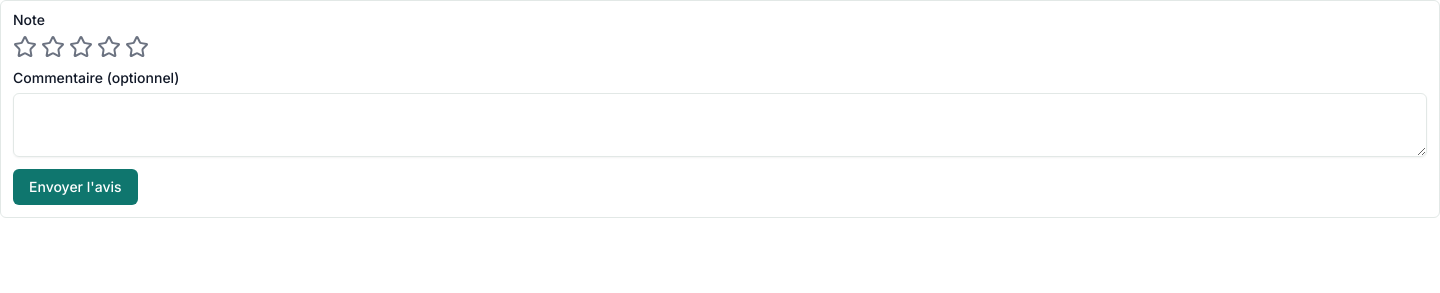
ReviewForm › shows a generic error when the request fails
The width and height of the screenshot is (1440, 293).
Click the radio button named "étoile" at [25, 47], box [13,35,37,59]
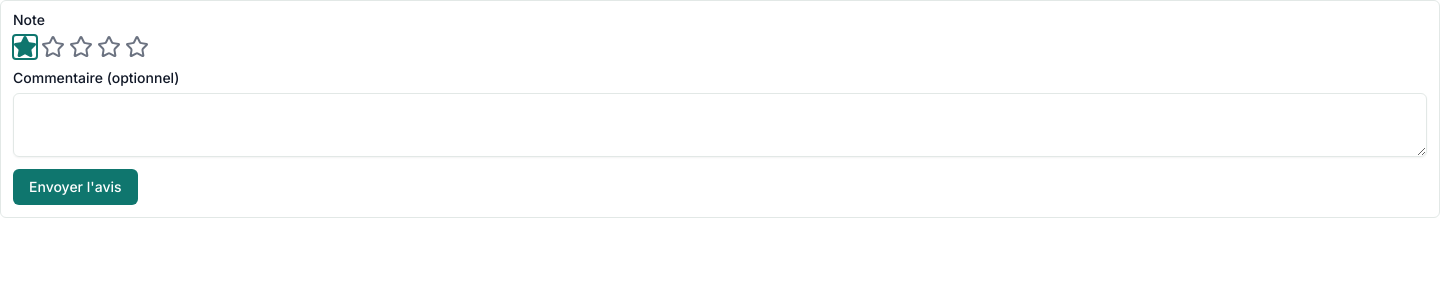
Click the button "Envoyer l'avis" at [75, 187], box [13,169,138,205]
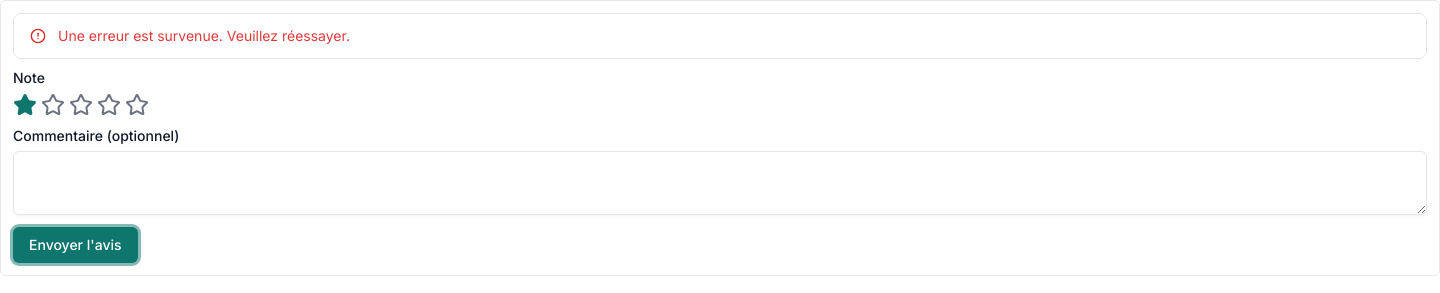
Now the text "Une erreur est survenue. Veuillez réessayer." is shown, box [58,27,350,44]
